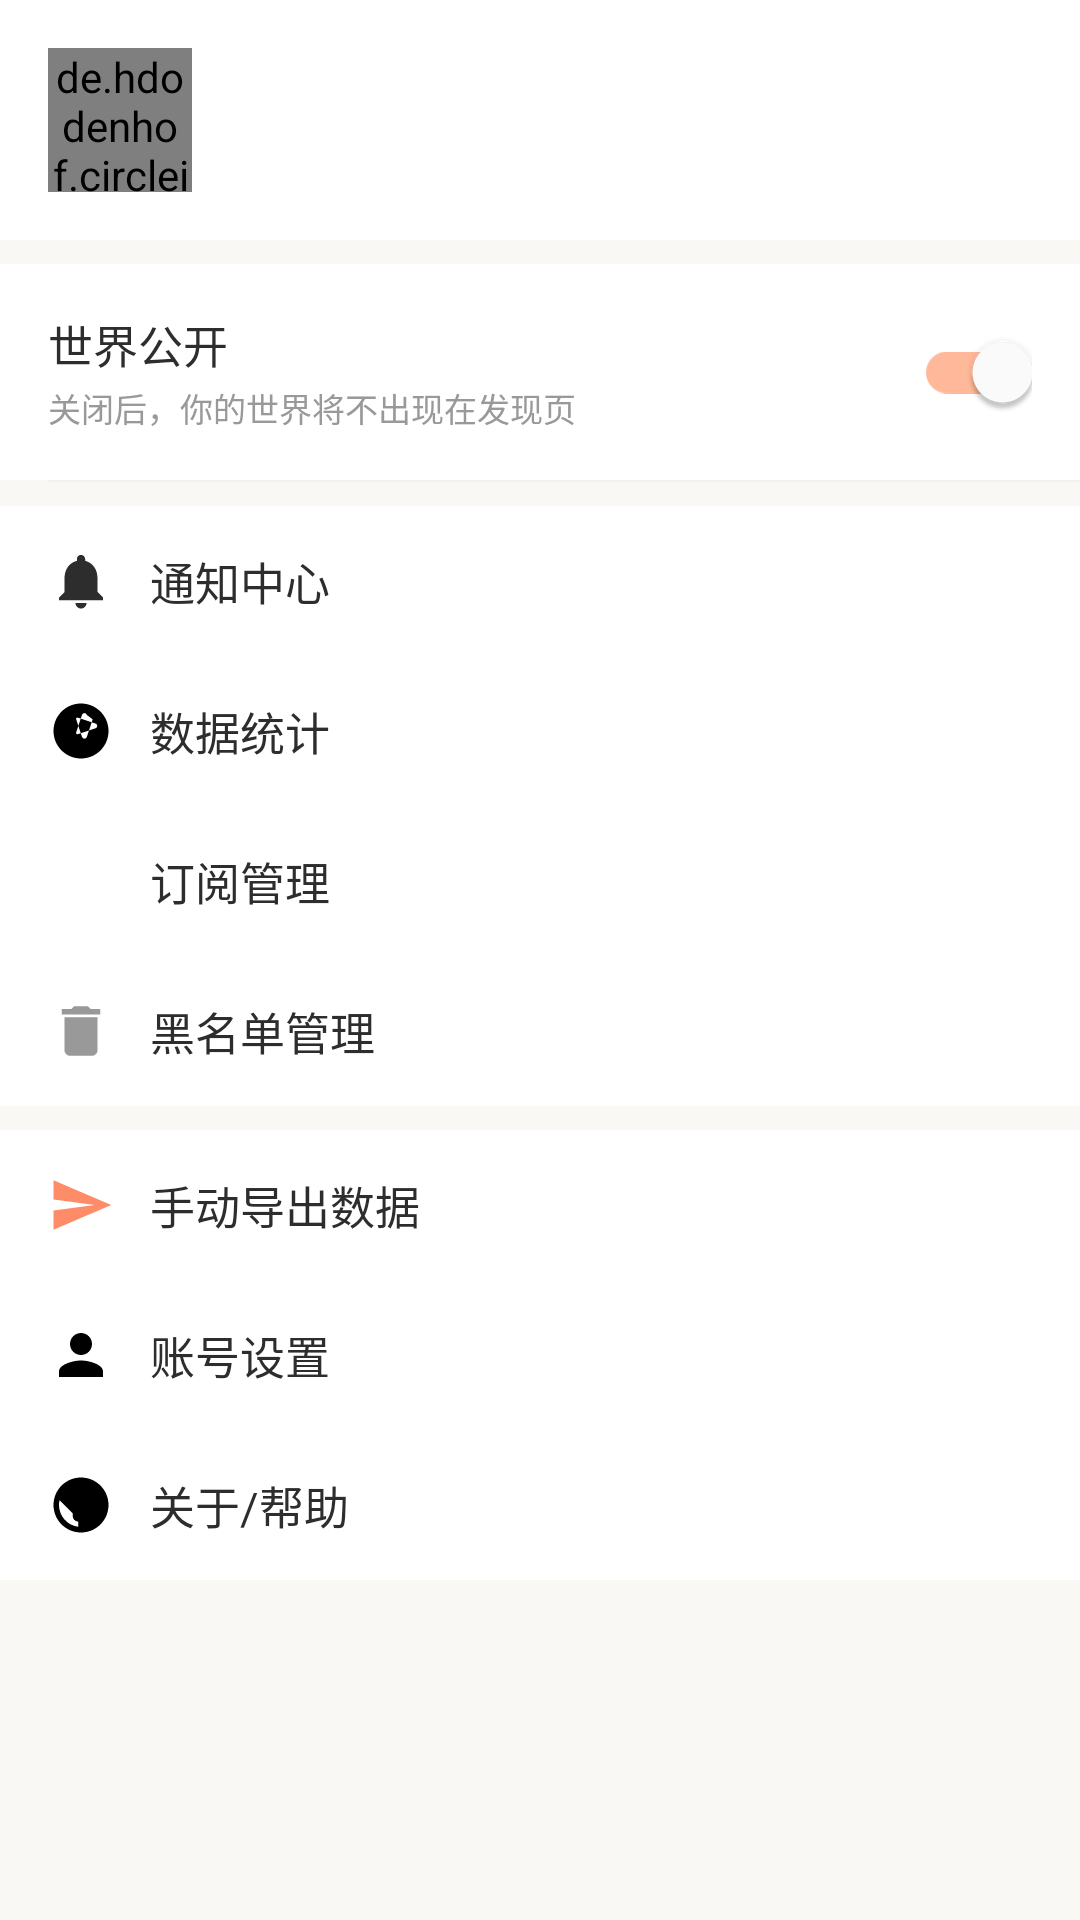

Point at icon controls on the screen. Image size 1080 x 1920, points as [x,y].
delete: [81,1031]
discover: [81,731]
notification: [81,582]
send: [82,1205]
